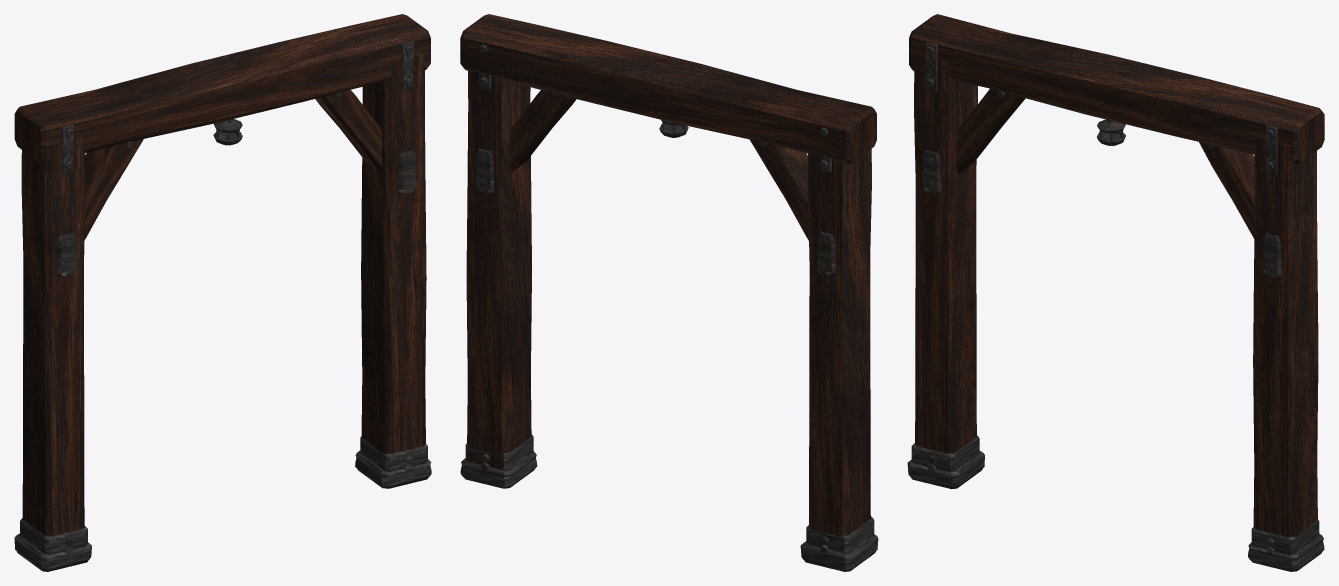
File: crypt_timber_doorway.glb
3 views of the same model, side by side, from view 1: azimuth 30°, elevation 25°; view 2: azimuth 150°, elevation 25°; view 3: azimuth 330°, elevation 25° (orthographic).
Parts seen in each view (by area): view 1: Crypt Timber Doorway Mesh; view 2: Crypt Timber Doorway Mesh; view 3: Crypt Timber Doorway Mesh.
Part boxes in pixels (left/top/right/bottom): Crypt Timber Doorway Mesh: left=14, top=14, right=431, bottom=571; Crypt Timber Doorway Mesh: left=460, top=14, right=878, bottom=571; Crypt Timber Doorway Mesh: left=907, top=14, right=1324, bottom=571.
Size of the model in its own units: 3.48 by 3.8 by 0.51.
3 materials, 3 textured.
